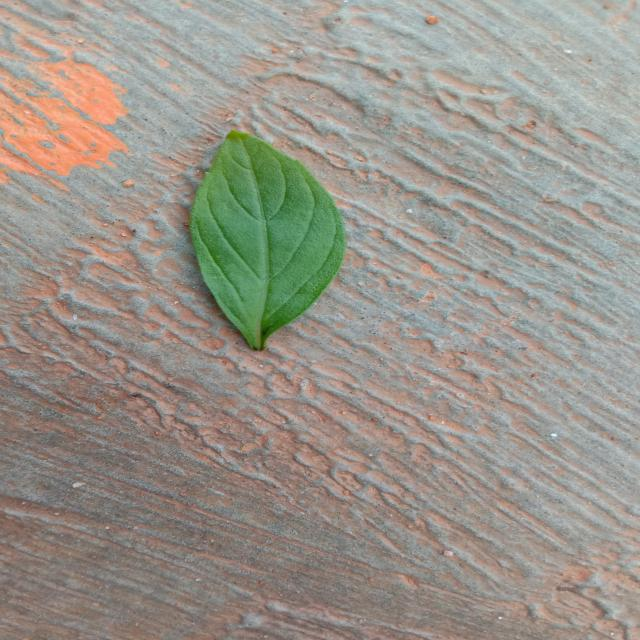kamakasturi: (190, 131, 345, 350)
